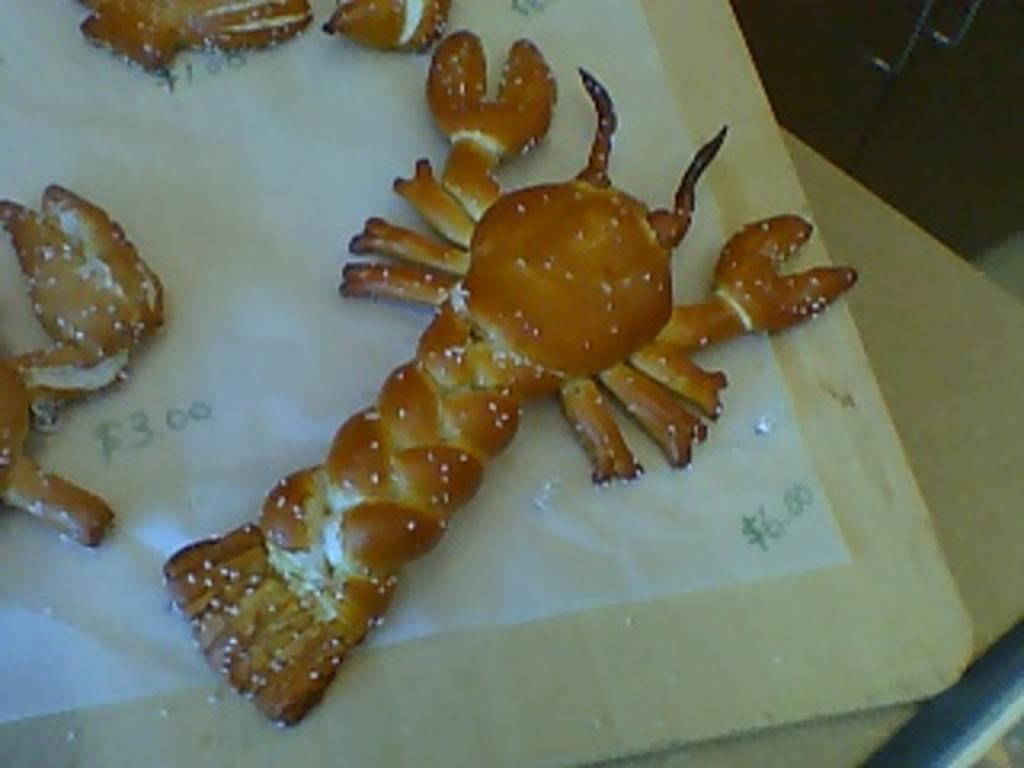Lobster: (157, 22, 858, 733), (0, 179, 163, 538), (70, 0, 317, 90)
